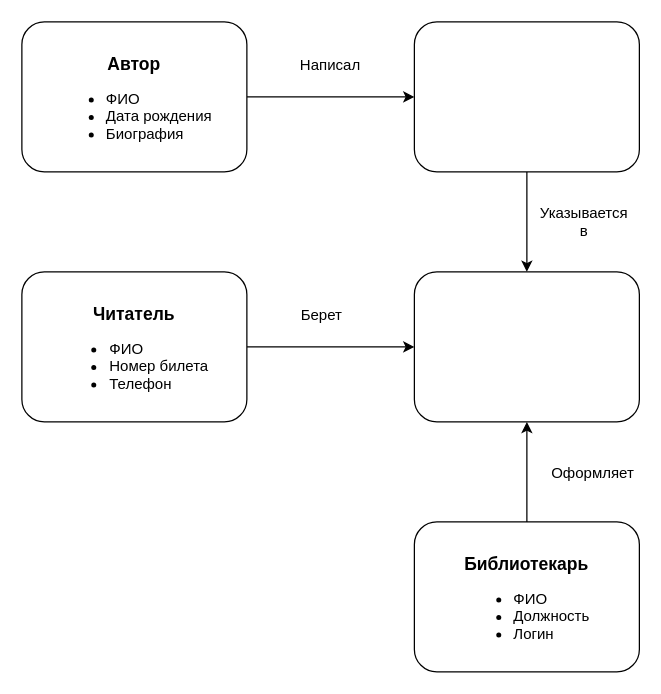
Some shapes in this 661 by 694 pixel diagram are drawn without their labels. Each missing label, with the box of its shape:
Выдача Дата выдачи Срок возврата Статус возврата Отметка возврата: (413, 271, 639, 422)
Книга Название Год издания Количество Жанр: (413, 21, 639, 172)
